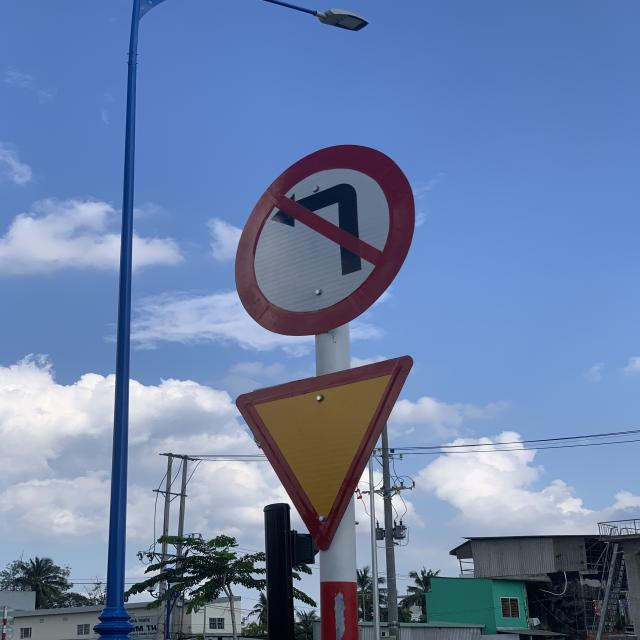Cam_Re_Trai: (235, 141, 421, 342)
Gioi_Han_Toc_Do_25: (235, 355, 415, 547)
